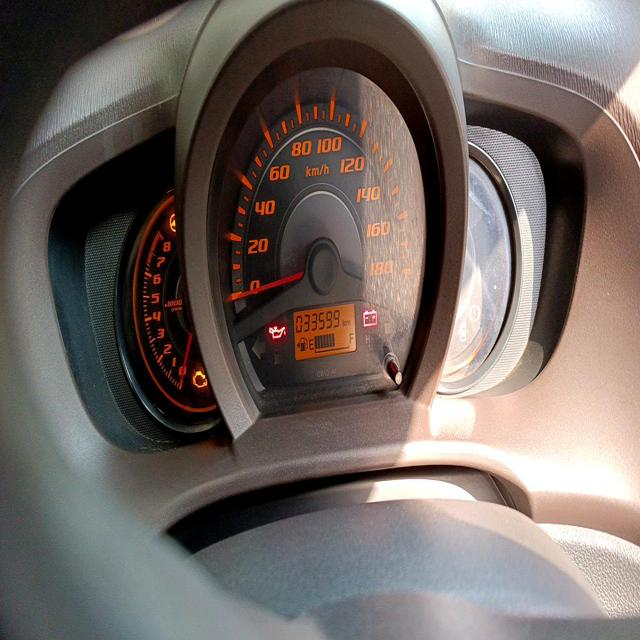odometer: (294, 305, 341, 340)
